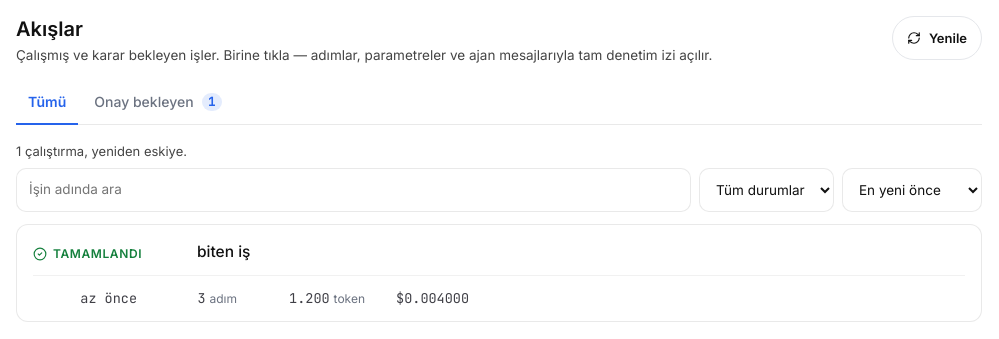
Test: choosing_a_tab_writes_it_to_the_address_so_the_list_can_be_linked_to
What coordinates should you click on to do the following:
click the tab "Onay bekleyen 1"
I would click on:
 (158, 103)
Its box is [82,81,234,125].
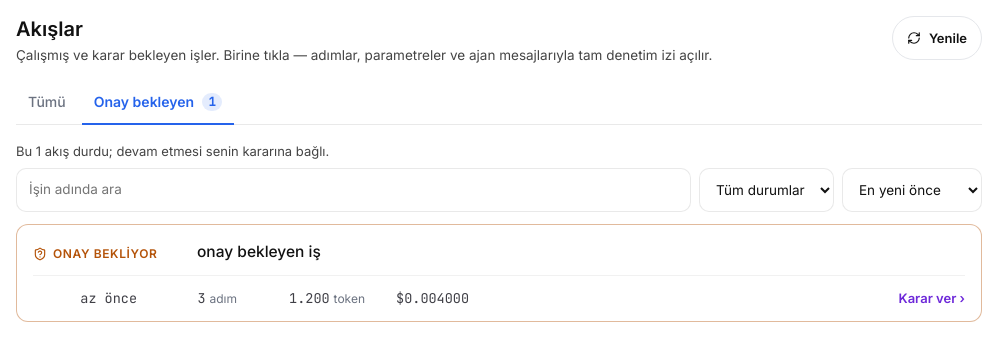
Now the text "onay bekleyen iş" is shown, box [197,242,321,261]
Now the button "biten iş" is gone
